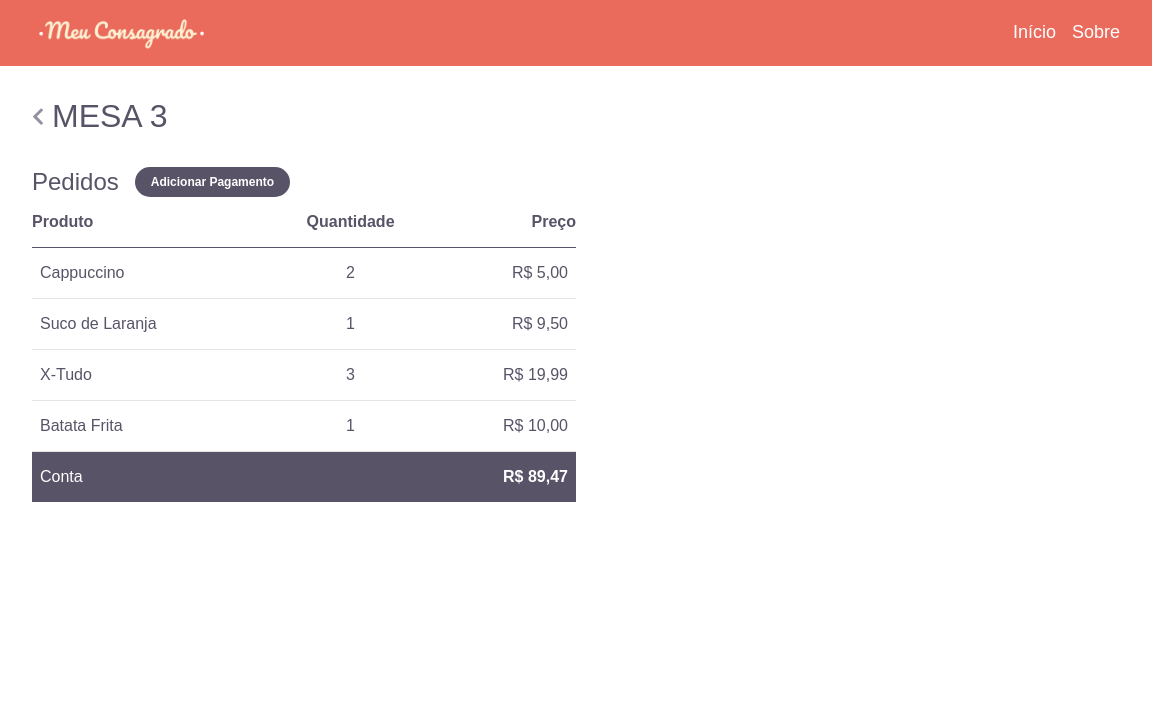
Test: Table Tests › should not be able to click on pay without putting a value
Expected: the element with test id "table-page" is shown, [32,98,576,502]
Click the button with test id "add-payment-button": {"x": 213, "y": 182} [135,167,290,197]
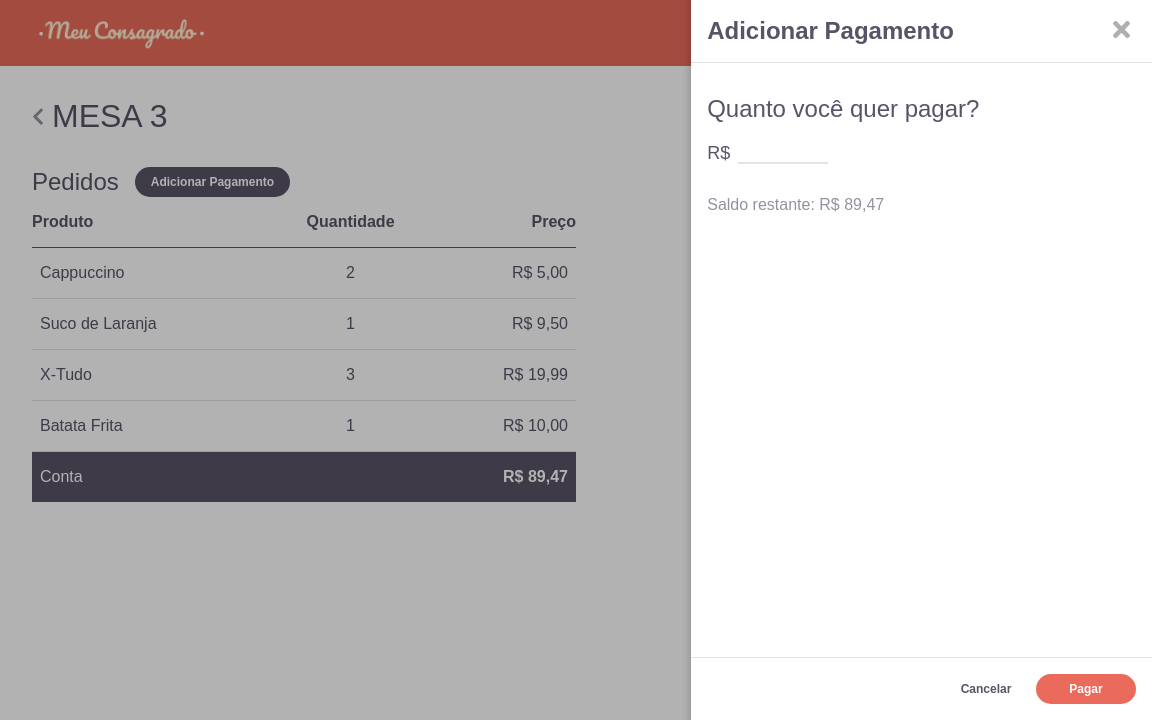
Result: the element with test id "payment-modal" is shown at [691,0,1151,719]
Click the button with test id "payment-modal-primary-button": {"x": 1086, "y": 689} [1036,674,1136,704]
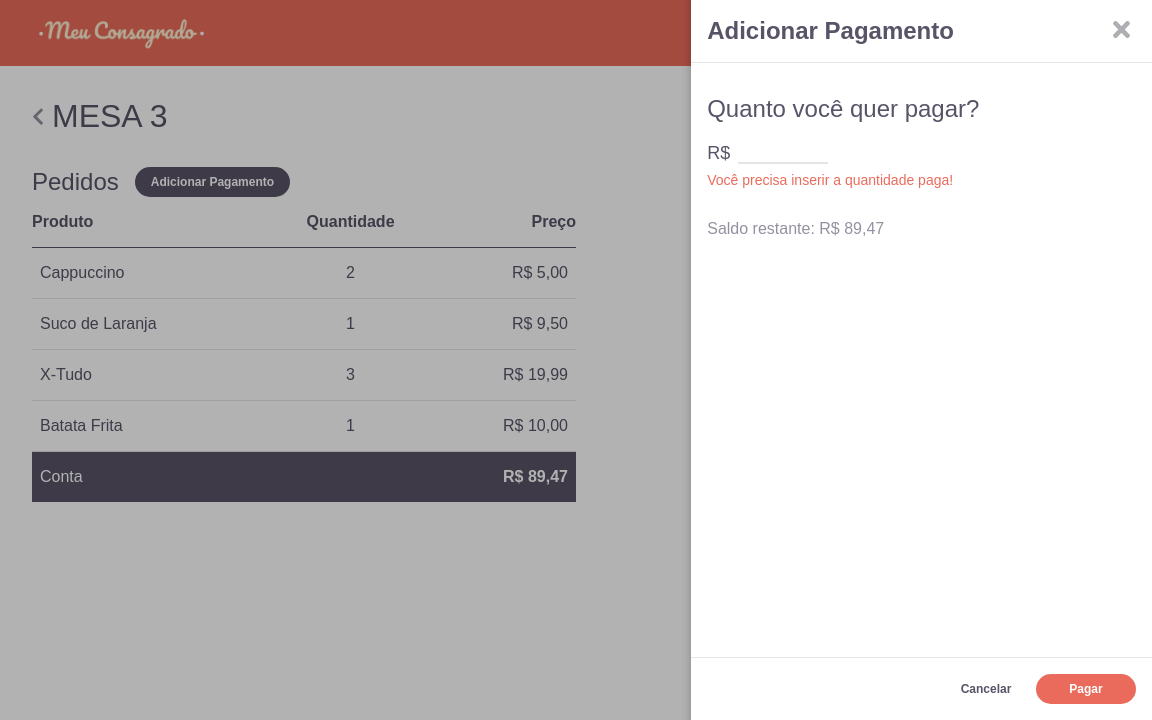
Result: the text "Você precisa inserir a quantidade paga!" is shown at [707,172,953,188]
